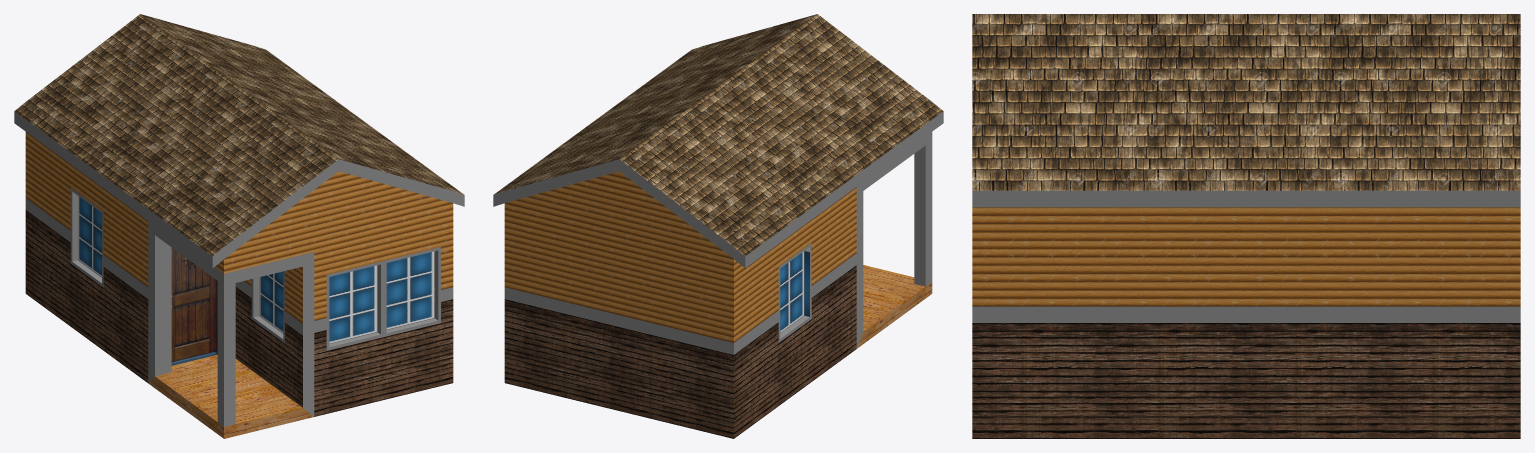
File: Casita1.FBX
The picture shows the model from 3 angles, left to right: view 1: azimuth 30°, elevation 25°; view 2: azimuth 150°, elevation 25°; view 3: azimuth 270°, elevation 25°; orthographic projection. The views are drawn at different scales.
Visible parts, largest first — view 1: Casa1; view 2: Casa1; view 3: Casa1.
Part boxes in pixels (x1=…): Casa1: x1=14, y1=14, x2=464, y2=438; Casa1: x1=493, y1=14, x2=943, y2=438; Casa1: x1=972, y1=14, x2=1520, y2=438.
Bounding box in the file's own units: 4.4 × 4.2 × 6.
7 materials, 6 textured.
